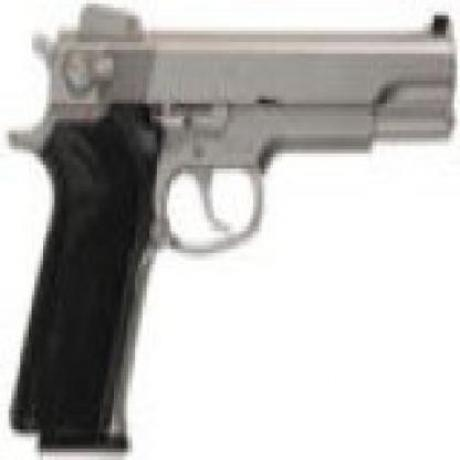weapon: (13, 13, 452, 438)
